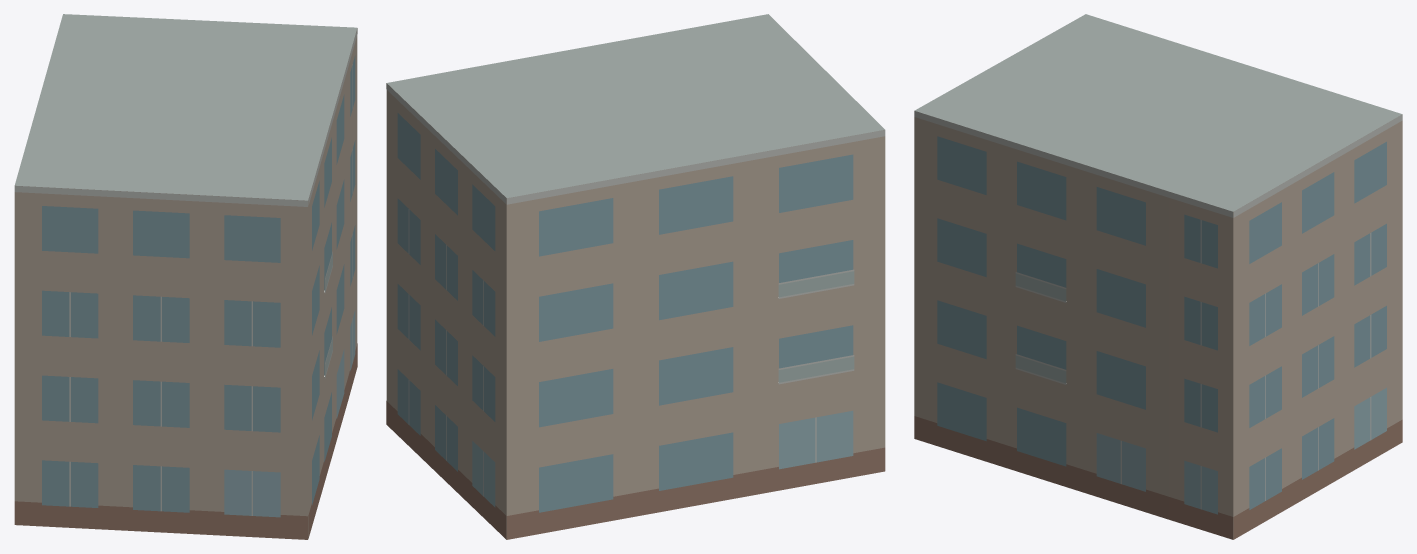
File: survey-upis-32696591.glb
3 views of the same model, side by side, from view 1: azimuth 30°, elevation 25°; view 2: azimuth 150°, elevation 25°; view 3: azimuth 270°, elevation 25° (orthographic). The views are drawn at different scales.
Parts seen in each view (by area): view 1: survey-upis-32696591.tmp; view 2: survey-upis-32696591.tmp; view 3: survey-upis-32696591.tmp.
Boxes of the visible parts, bbox=[...] form: survey-upis-32696591.tmp: bbox=[14, 14, 357, 539]; survey-upis-32696591.tmp: bbox=[386, 14, 885, 539]; survey-upis-32696591.tmp: bbox=[914, 14, 1402, 539].
Bounding box in the file's own units: 16.69 × 12.9 × 17.41.
